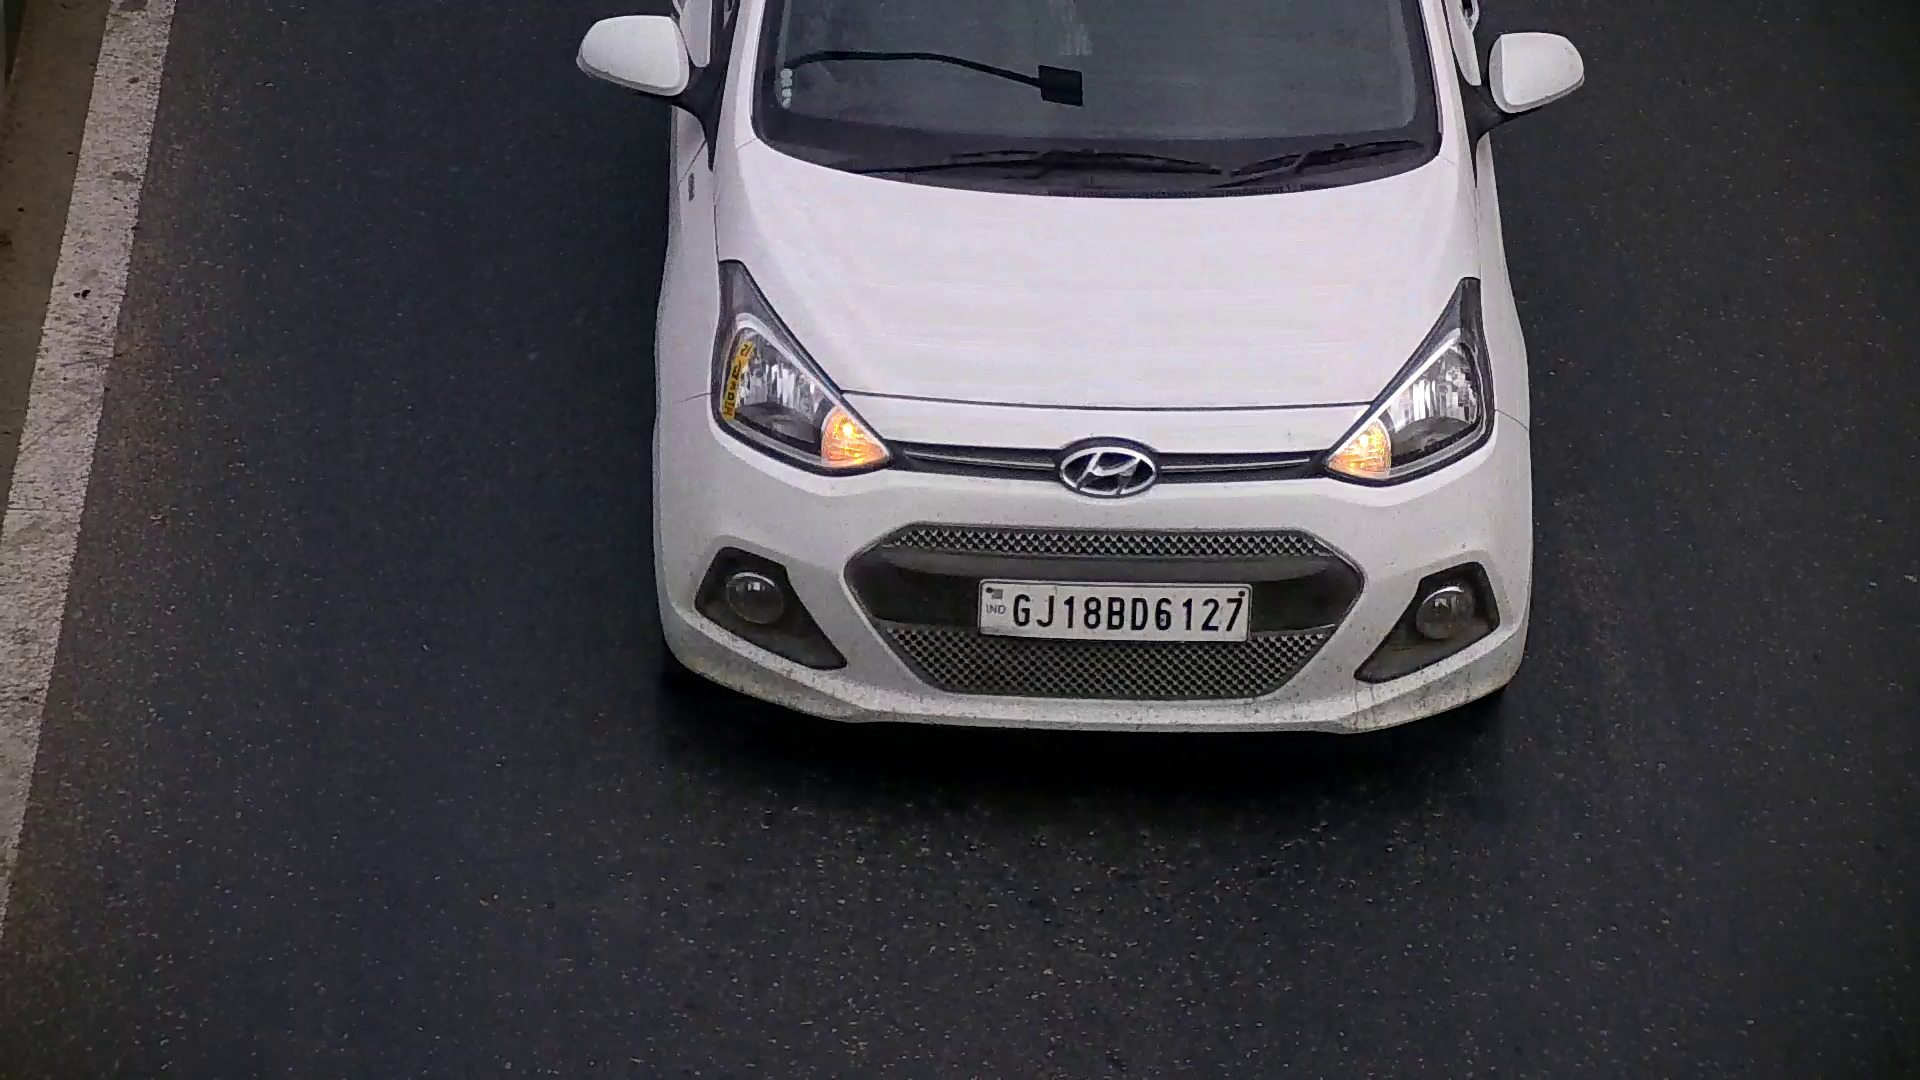numberplate: (976, 577, 1249, 648)
